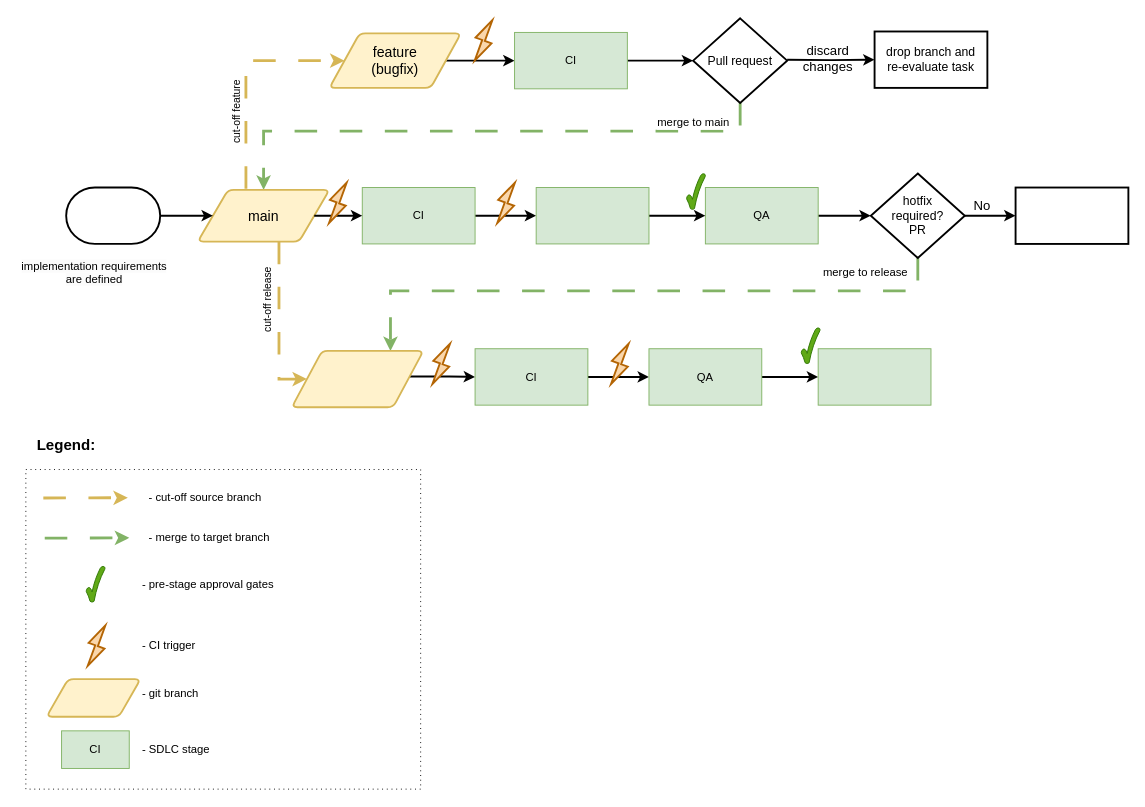
The diagram is 1145 pixels wide and 807 high, and some of its shapes have lost their labels. Each missing label, with the centre of its shape:
continue with development: the point at 1071,215
DEV: the point at 592,215
develop: the point at 93,697
PROD: the point at 874,376
release/ver: the point at 357,378
Start: the point at 113,215
